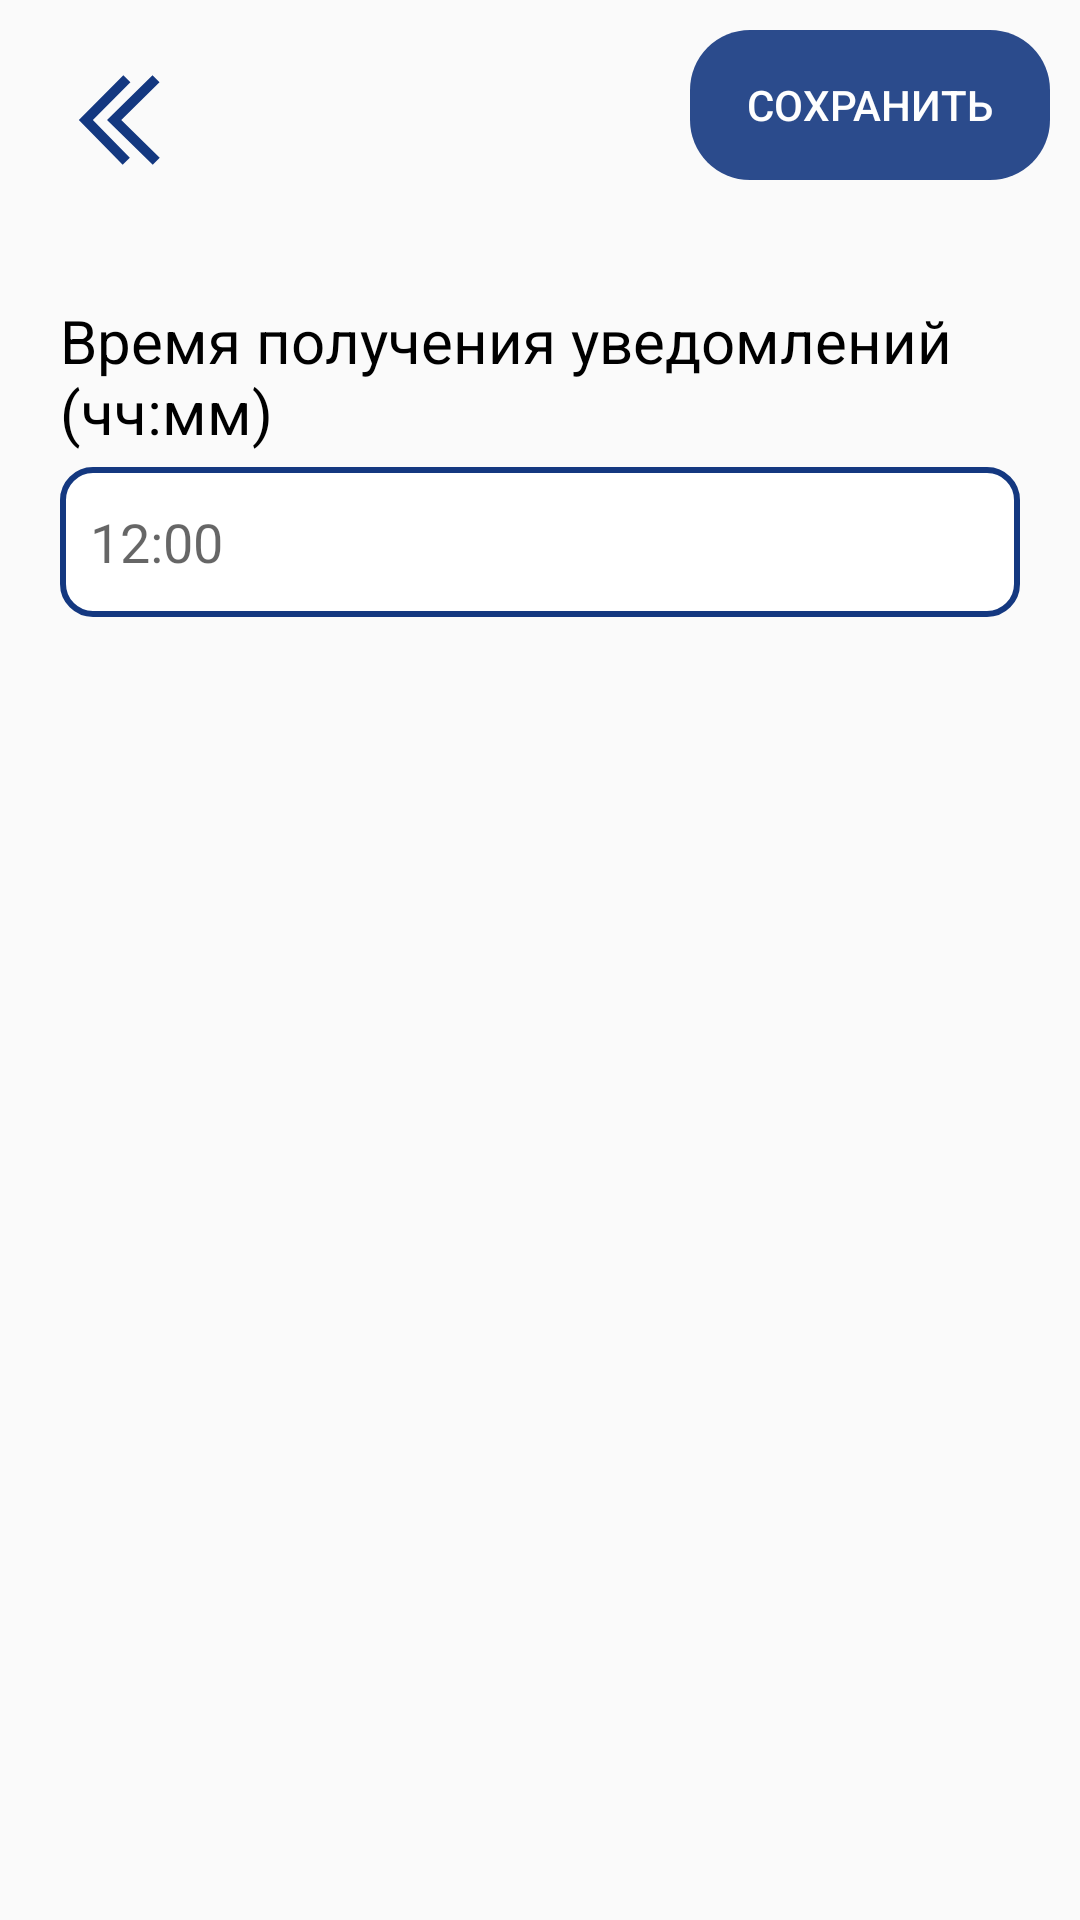

Screen size 1080*1920. Icon name, then its box in pixels as box(x1, y1, x2, y2):
arrow: box(79, 75, 160, 165)
